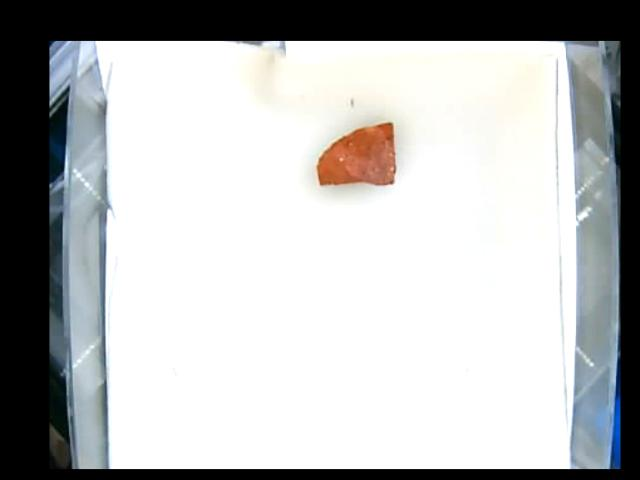Brisk: (313, 119, 398, 188)
